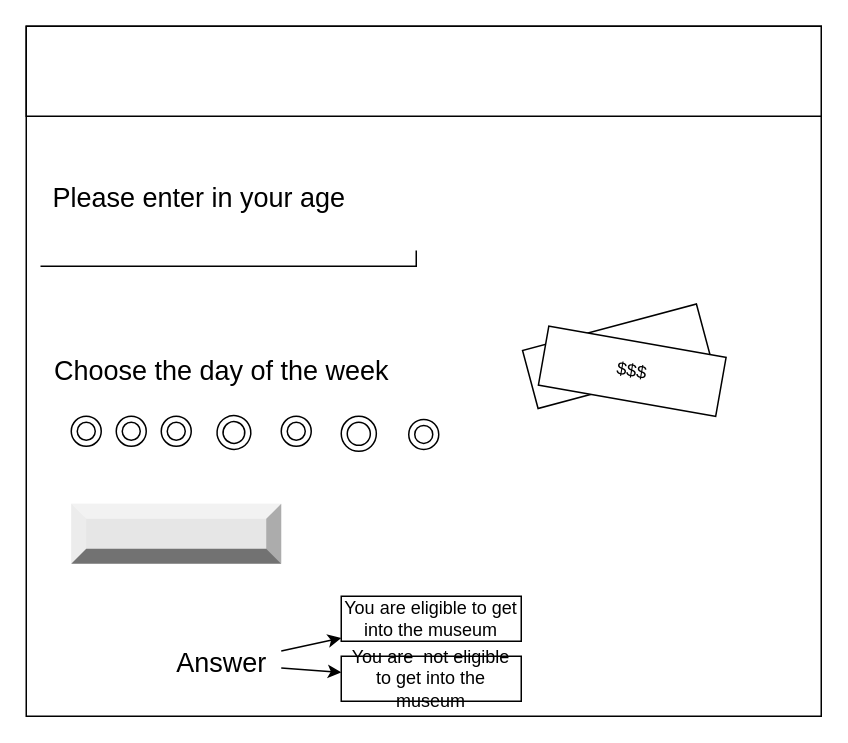
Image size: 848x743. Some labels were removed from this diagram. Here are the shapes that lost their labels. From the top down, the centre of each, then its label:
At (423,70): "Eligibility for Student Pricing".
At (175,533): "Enter".
